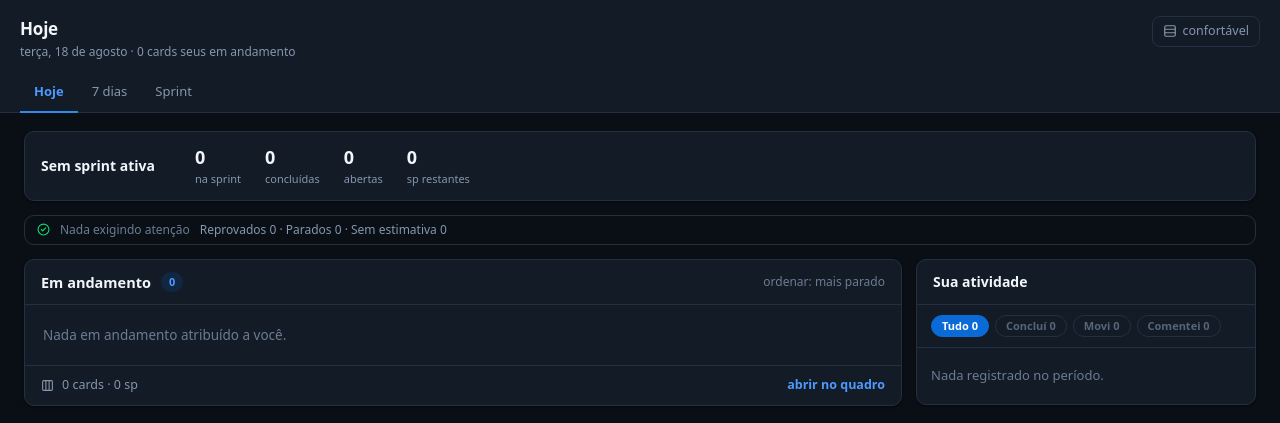
it: Dashboard (tela "Hoje") › toggle de densidade: otimista local + prefs:set, e o rótulo acompanha o refetch
Click the button "confortável". click: point(1206, 31)
box: [1152,16,1260,47]
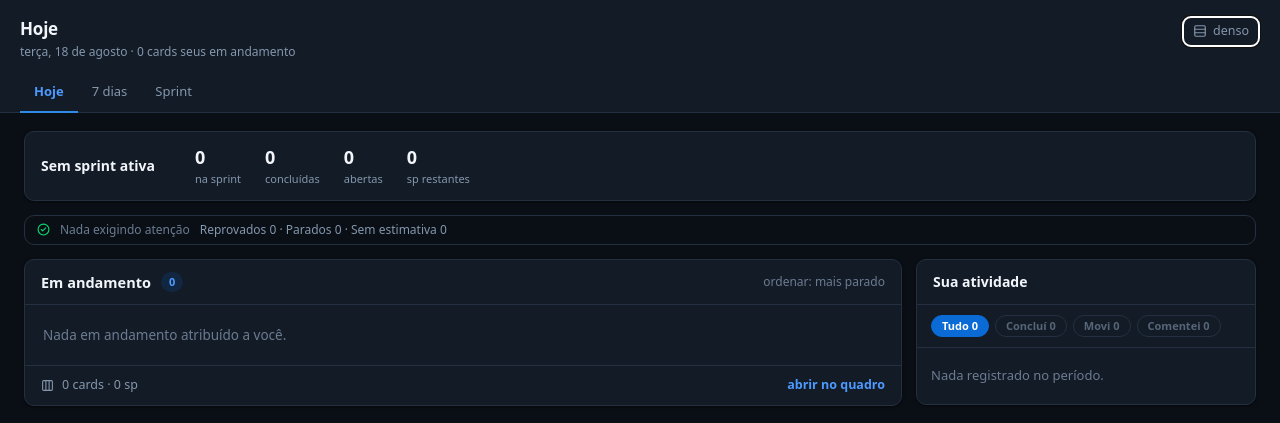
Expected: the button "denso" is shown, [1182,16,1260,47]
